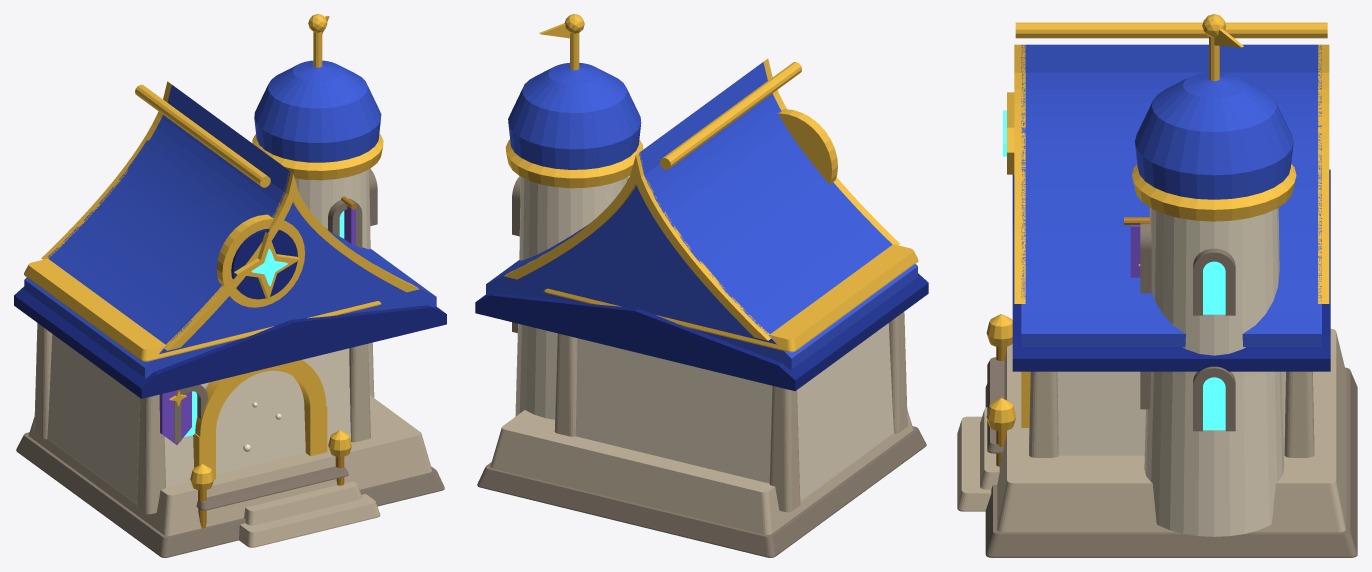
Rendered from maison_aventuriers.glb.
3 renders of one model, left to right at view 1: azimuth 30°, elevation 25°; view 2: azimuth 150°, elevation 25°; view 3: azimuth 270°, elevation 25°, orthographic. The views are drawn at different scales.
Parts seen in each view (by area): view 1: roof_blue, gold, stone_mid, stone_light, roof_blue_dk, stone_dark, banner_violet, FenetresMagie, gold_dark; view 2: roof_blue, stone_light, stone_mid, gold, roof_blue_dk, stone_dark; view 3: roof_blue, stone_light, stone_mid, gold, stone_dark, roof_blue_dk, FenetresMagie, gold_dark, banner_violet.
Part boxes in pixels (left/top/right/bottom): roof_blue: left=24, top=60, right=436, bottom=378; gold: left=24, top=14, right=419, bottom=490; stone_mid: left=28, top=323, right=432, bottom=547; stone_light: left=47, top=169, right=374, bottom=504; roof_blue_dk: left=14, top=228, right=446, bottom=398; stone_dark: left=16, top=169, right=444, bottom=557; banner_violet: left=159, top=206, right=355, bottom=444; FenetresMagie: left=184, top=211, right=344, bottom=436; gold_dark: left=198, top=196, right=356, bottom=528; roof_blue: left=486, top=62, right=917, bottom=369; stone_light: left=515, top=176, right=893, bottom=501; stone_mid: left=490, top=312, right=913, bottom=534; gold: left=504, top=14, right=918, bottom=352; roof_blue_dk: left=475, top=273, right=928, bottom=390; stone_dark: left=477, top=176, right=926, bottom=557; roof_blue: left=1021, top=44, right=1321, bottom=346; stone_light: left=1057, top=207, right=1285, bottom=536; stone_mid: left=957, top=328, right=1346, bottom=532; gold: left=986, top=14, right=1329, bottom=431; stone_dark: left=985, top=223, right=1357, bottom=557; roof_blue_dk: left=1012, top=169, right=1330, bottom=371; FenetresMagie: left=1003, top=110, right=1225, bottom=430; gold_dark: left=996, top=217, right=1149, bottom=466; banner_violet: left=1130, top=225, right=1140, bottom=277.
Size of the model in its own units: 3.19 by 4.05 by 2.82.
